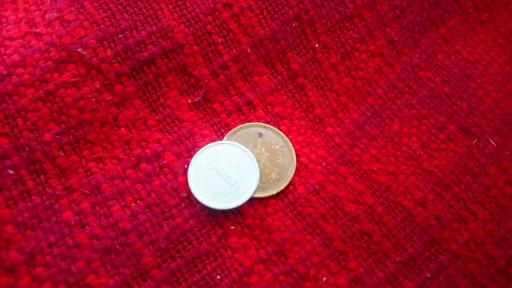10yen: (217, 123, 295, 197)
1yen: (186, 140, 259, 209)
